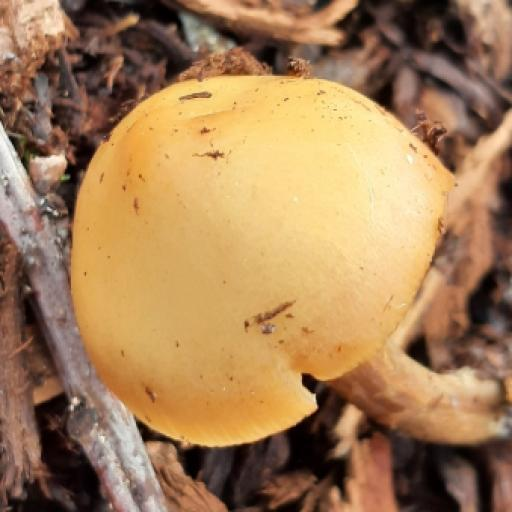mushroom: (50, 73, 512, 454)
